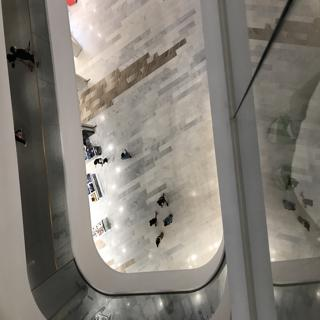person: (156, 187, 176, 209), (153, 231, 169, 256)
